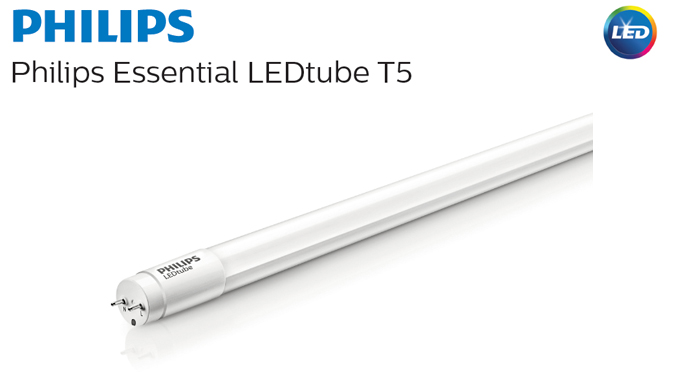Light_bulb: (103, 106, 595, 339)
